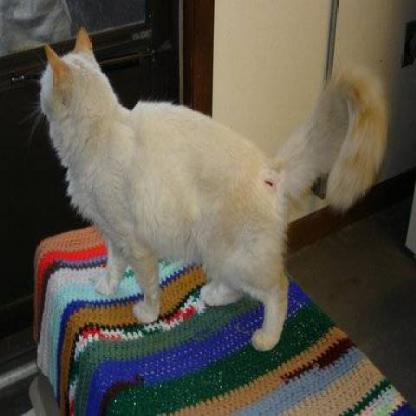cat: (32, 35, 384, 342)
